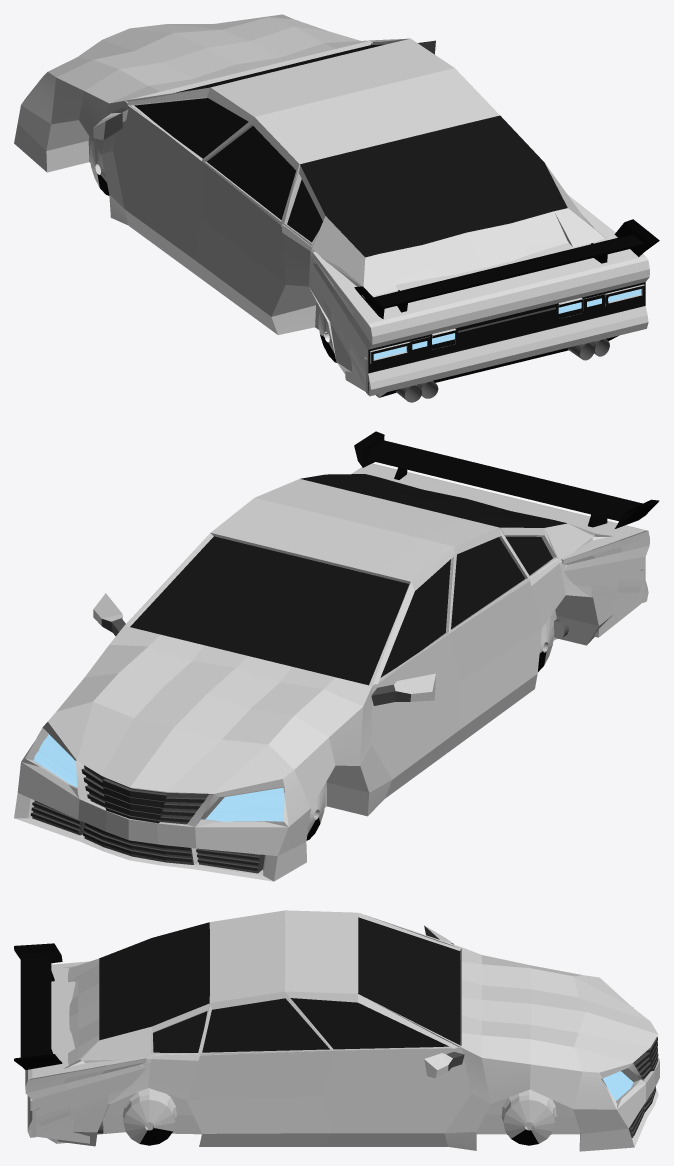
The model's file is car.glb.
3 views of the same model, one above another, from view 1: azimuth 30°, elevation 25°; view 2: azimuth 150°, elevation 25°; view 3: azimuth 270°, elevation 25° (orthographic). The views are drawn at different scales.
Visible parts, largest first — view 1: Cube; view 2: Cube; view 3: Cube.
Part boxes in pixels (x1,y1,x2,y2): Cube: (14,14,659,402); Cube: (14,431,659,881); Cube: (14,910,659,1151).
Bounding box in the file's own units: 2.72 × 1.45 × 5.36.
